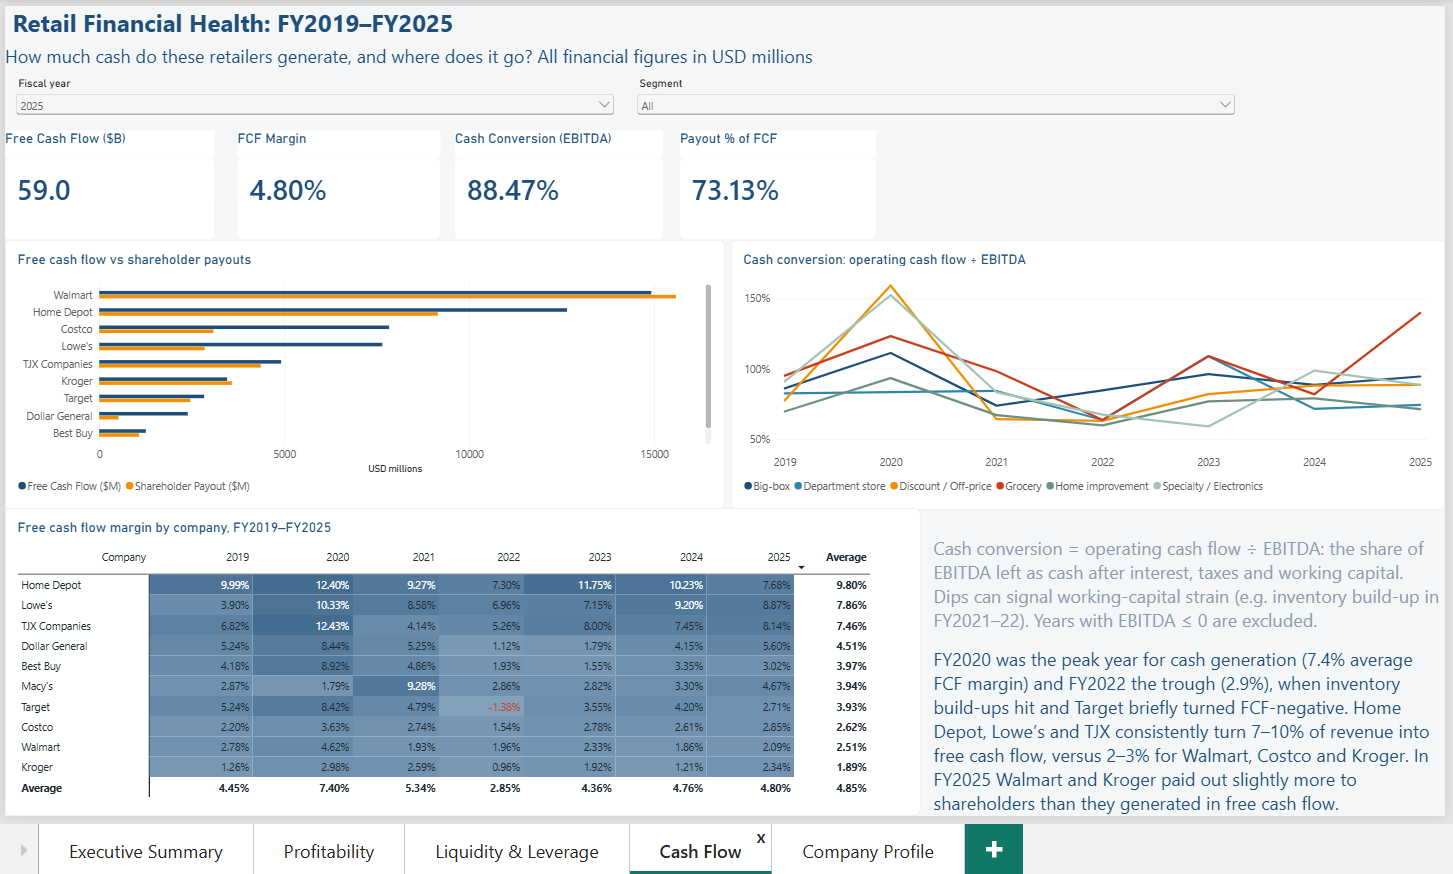

What the dashboard file says about the page in this screenshot:
{"tool":"powerbi","page":{"name":"Cash Flow","canvas":[1920,1080],"ordinal":3},"visuals":[{"type":"textbox","box":[9.1,0,665.9,50],"z":0},{"type":"textbox","box":[0,50,1106.8,43.2],"z":1000},{"type":"slicer","fields":{"Values":["analytics v_ratios.fiscal_year"]},"box":[9.1,93.2,806.8,72.7],"z":2000},{"type":"slicer","fields":{"Values":["analytics companies.segment"]},"box":[838.6,93.2,806.8,72.7],"z":3000},{"type":"cardVisual","title":"Free Cash Flow ($B)","fields":{"Data":["analytics v_ratios.Free Cash Flow ($B)"]},"box":[0,165.9,279.5,145.5],"z":4000},{"type":"cardVisual","title":"FCF Margin","fields":{"Data":["analytics v_ratios.FCF Margin"]},"box":[309.1,165.9,270.5,145.5],"z":5000},{"type":"cardVisual","title":"Cash Conversion (EBITDA)","fields":{"Data":["analytics v_ratios.Cash Conversion (EBITDA)"]},"box":[600,165.9,277.3,145.5],"z":6000},{"type":"cardVisual","title":"Payout % of FCF","fields":{"Data":["analytics v_ratios.Payout % of FCF"]},"box":[900,165.9,261.4,145.5],"z":7000},{"type":"clusteredBarChart","title":"Free cash flow vs shareholder payouts","fields":{"Category":["analytics companies.company_name"],"Y":["analytics v_ratios.Free Cash Flow ($M)","analytics v_ratios.Shareholder Payout ($M)"]},"box":[0,311.4,959.1,359.1],"z":8000},{"type":"lineChart","title":"Cash conversion: operating cash flow ÷ EBITDA","fields":{"Category":["analytics v_ratios.fiscal_year"],"Series":["analytics companies.segment"],"Y":["analytics v_ratios.Cash Conversion (EBITDA)"]},"box":[968.2,311.4,952.3,359.1],"z":9000},{"type":"pivotTable","title":"Free cash flow margin by company, FY2019–FY2025","fields":{"Columns":["analytics v_ratios.fiscal_year"],"Rows":["analytics companies.company_name"],"Values":["analytics v_ratios.FCF Margin"]},"box":[0,670.5,1220.5,409.1],"z":10000},{"type":"textbox","box":[1238.6,706.8,677.3,147.7],"z":11000},{"type":"textbox","box":[1238.6,854.5,677.3,225],"z":12000}]}

Visuals, with their boxes on the page's 1920x1080 design canvas (x1, y1, x2, y2). These are canvas units, not pixel positions in the 1453x874 screenshot, which may show the page scaled, cropped or inside an application window:
textbox: x1=9, y1=0, x2=675, y2=50
textbox: x1=0, y1=50, x2=1107, y2=93
slicer - analytics v_ratios.fiscal_year: x1=9, y1=93, x2=816, y2=166
slicer - analytics companies.segment: x1=839, y1=93, x2=1645, y2=166
"Free Cash Flow ($B)" cardVisual: x1=0, y1=166, x2=280, y2=311
"FCF Margin" cardVisual: x1=309, y1=166, x2=580, y2=311
"Cash Conversion (EBITDA)" cardVisual: x1=600, y1=166, x2=877, y2=311
"Payout % of FCF" cardVisual: x1=900, y1=166, x2=1161, y2=311
"Free cash flow vs shareholder payouts" clusteredBarChart: x1=0, y1=311, x2=959, y2=670
"Cash conversion: operating cash flow ÷ EBITDA" lineChart: x1=968, y1=311, x2=1920, y2=670
"Free cash flow margin by company, FY2019–FY2025" pivotTable: x1=0, y1=670, x2=1220, y2=1080
textbox: x1=1239, y1=707, x2=1916, y2=854
textbox: x1=1239, y1=854, x2=1916, y2=1080
